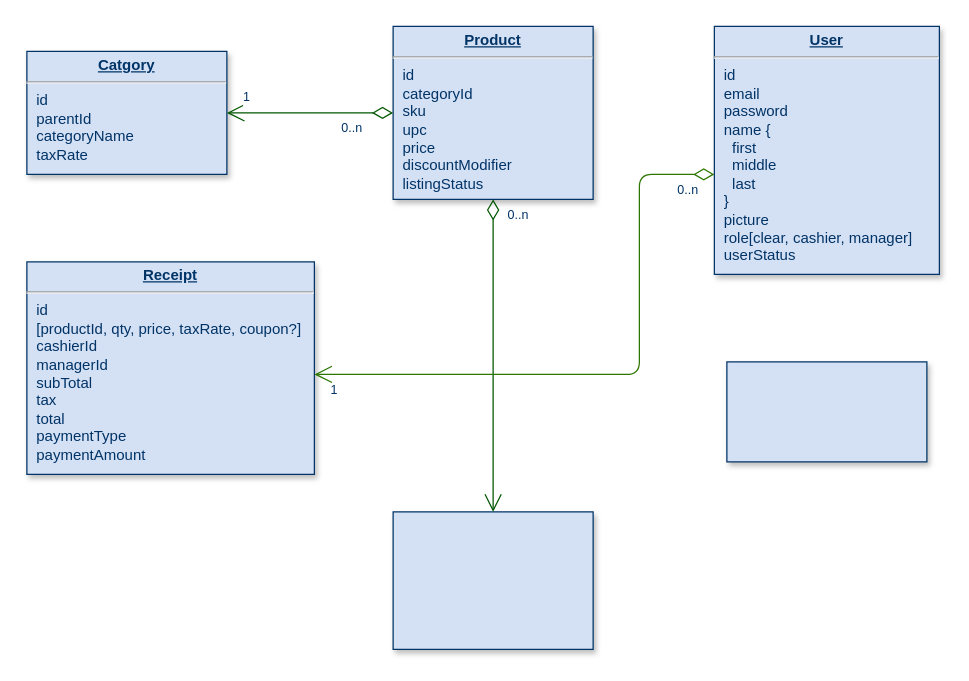
Image size: 969x681. Some labels were removed from this diagram. The shapes that lost their labels are listed below. From the top down, each one's centre as x and y in pixels, then its label:
[827,413]: Shared Attributes lastModified lastModifiedBy
[494,582]: Inventory id productId quantity currentAmount
